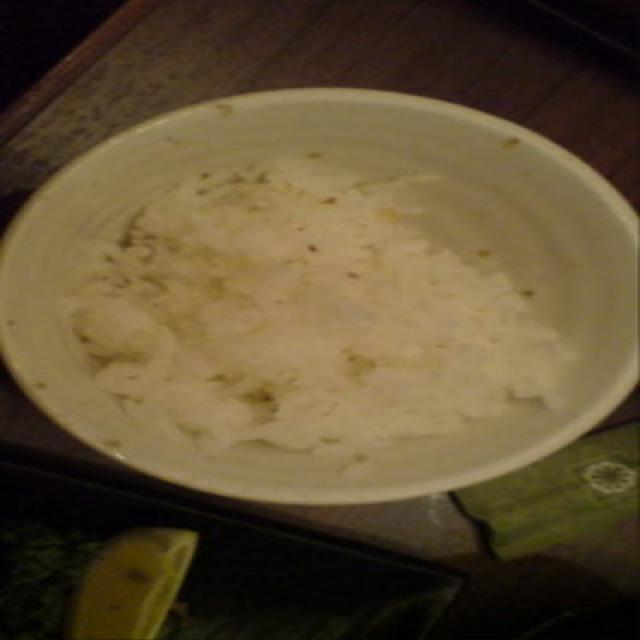Rice: (87, 169, 546, 437)
